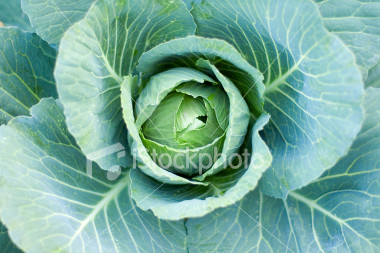cabbage: (0, 1, 379, 252)
